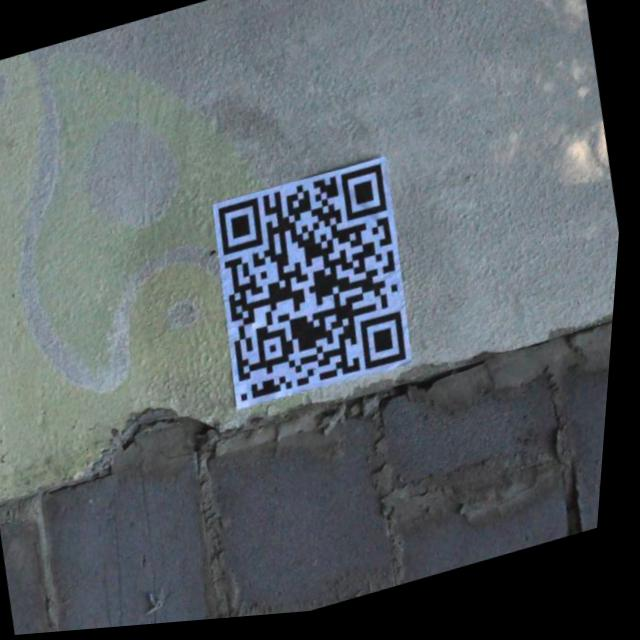qrcode: (207, 167, 426, 414)
